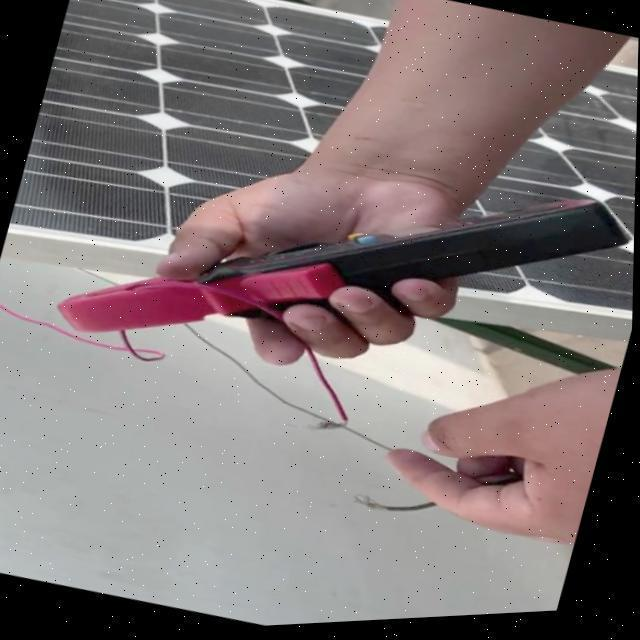Normal Solar Panel: (8, 0, 387, 301), (465, 55, 639, 322)
